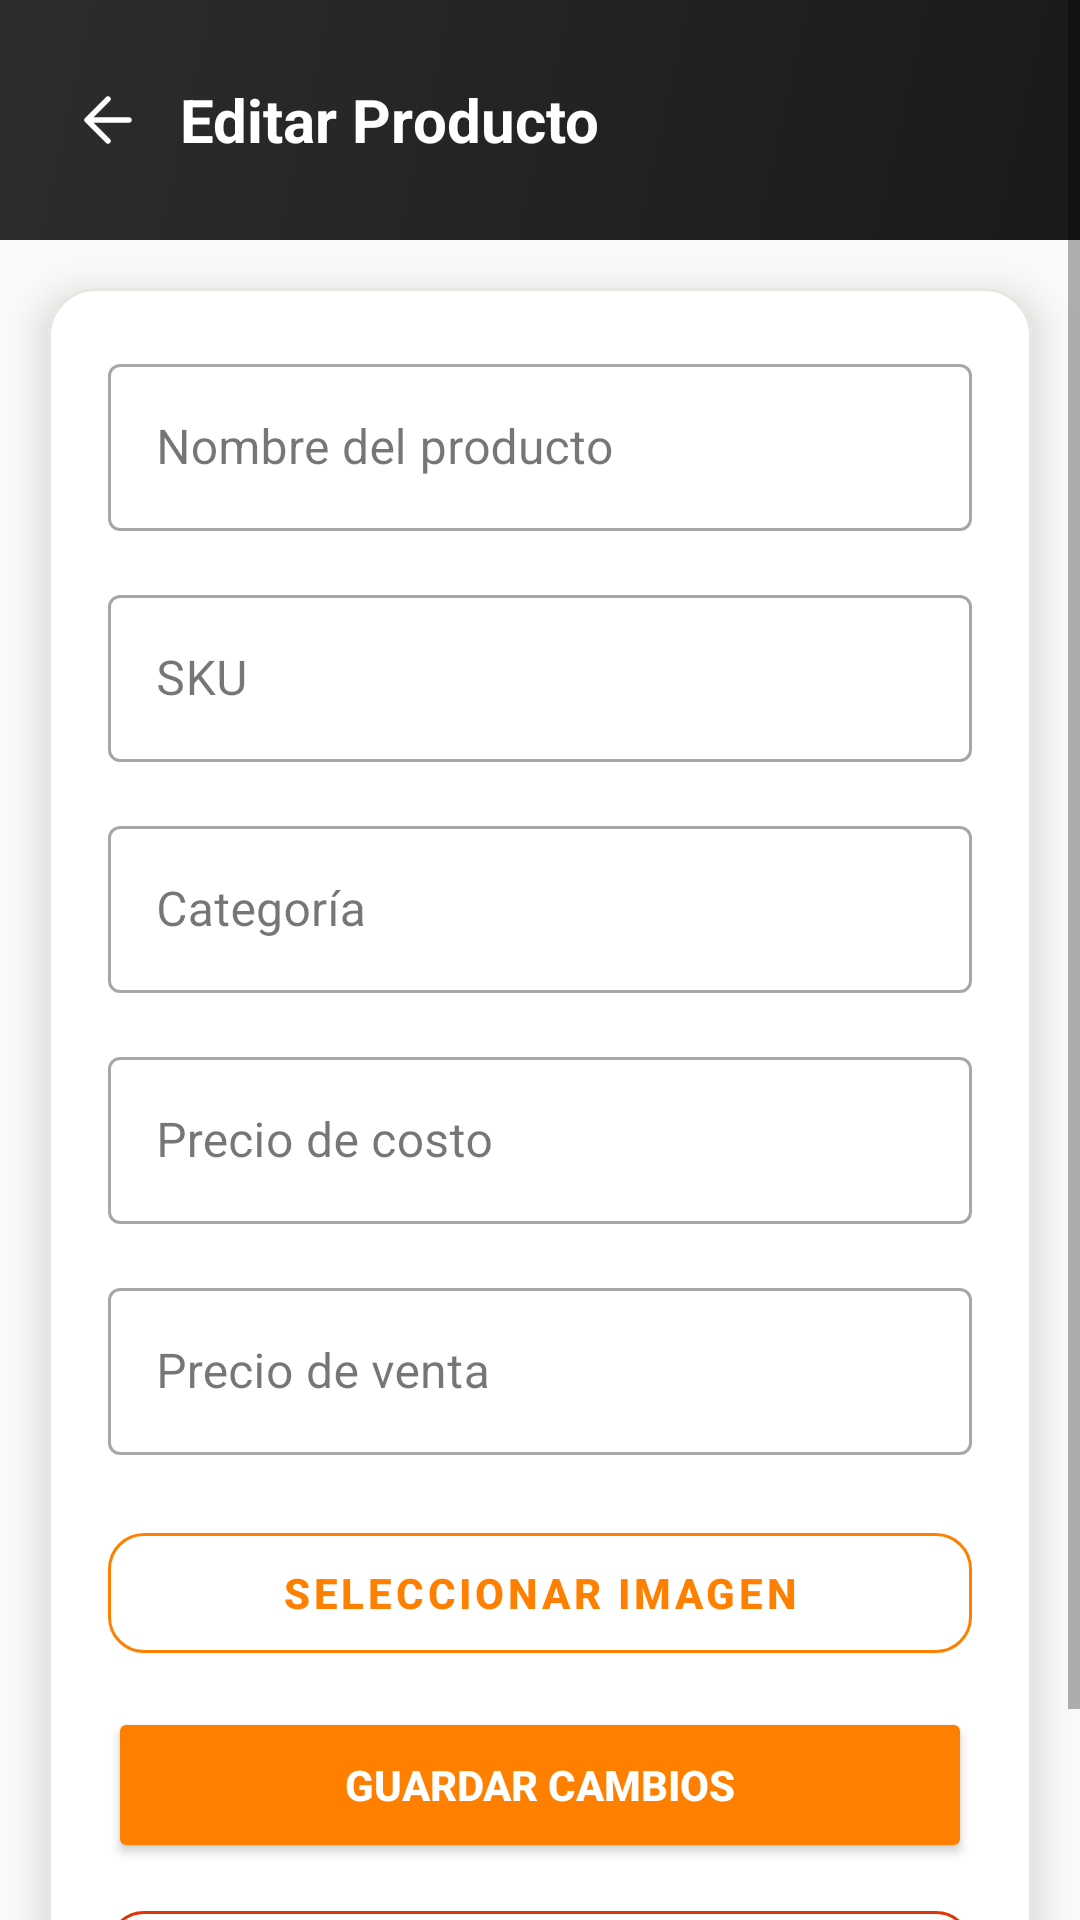

Icon bounding boxes for this 1080×1920 phone screenshot, format (x1, y1, x2, y2):
Volver: (84, 96, 132, 144)
